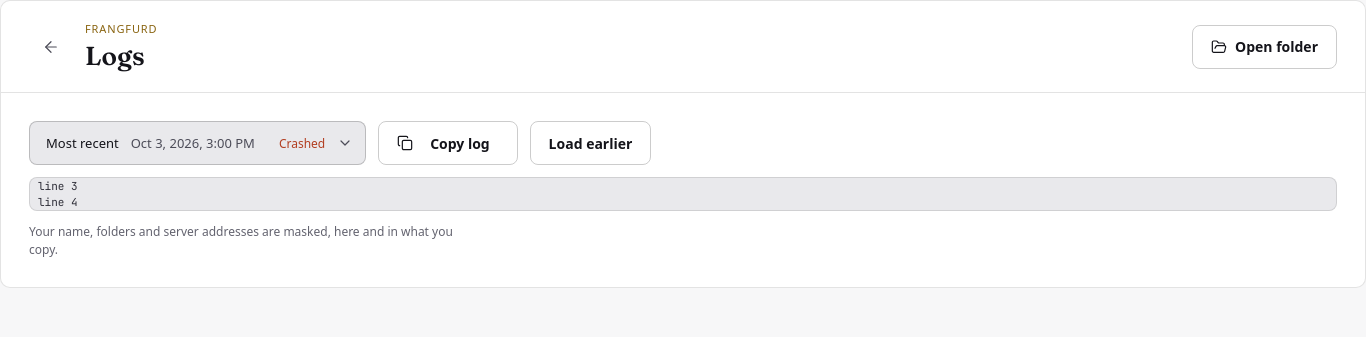
Test: LogsPanel › a past run › loads the stretch before what is shown and puts it in front
The width and height of the screenshot is (1366, 337).
Click the button "Load earlier" at (590, 143), box [530,121,651,165]
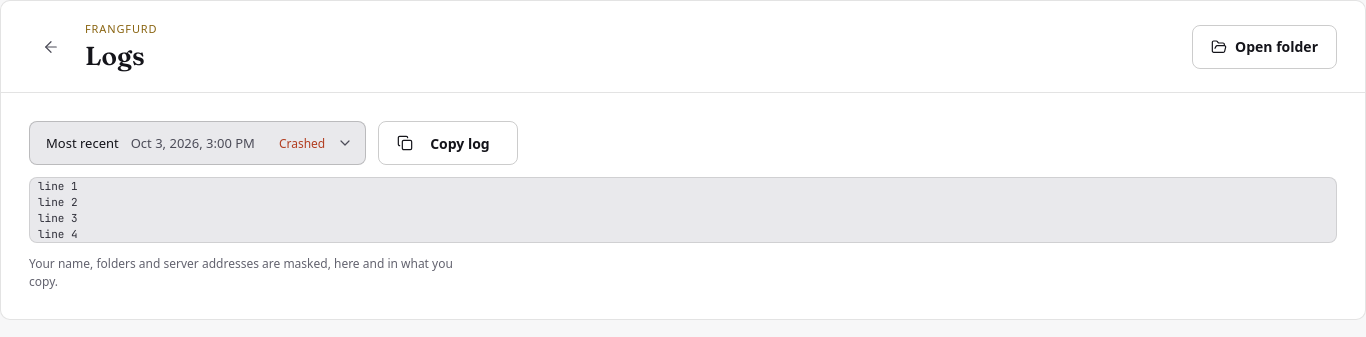
Expected: the element named "latest.log, masked" reads "line 1 line 2 line 3 line 4", [38,179,78,241]
Expected: the button "Load earlier" is gone
